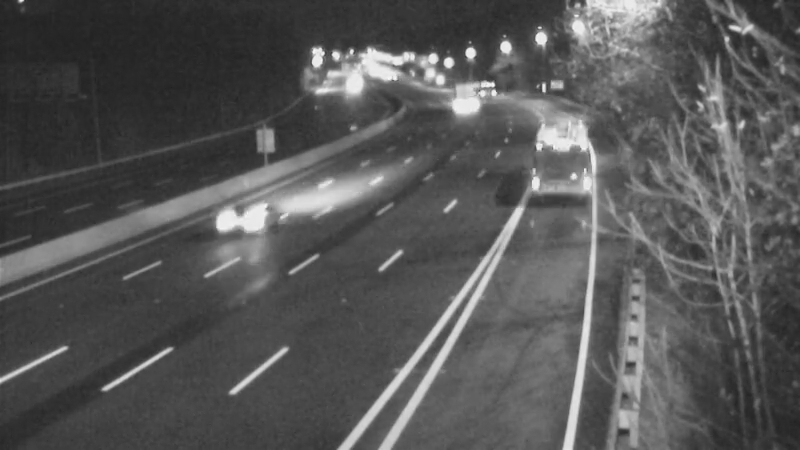vehicle: (209, 180, 289, 260), (460, 66, 510, 116), (436, 68, 486, 118), (525, 116, 575, 166), (326, 57, 376, 107)
